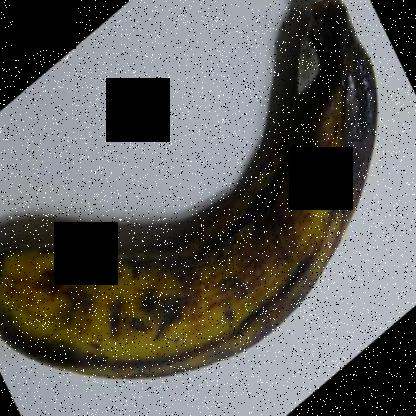overripe: (0, 0, 383, 391)
rotten: (270, 0, 402, 181)
